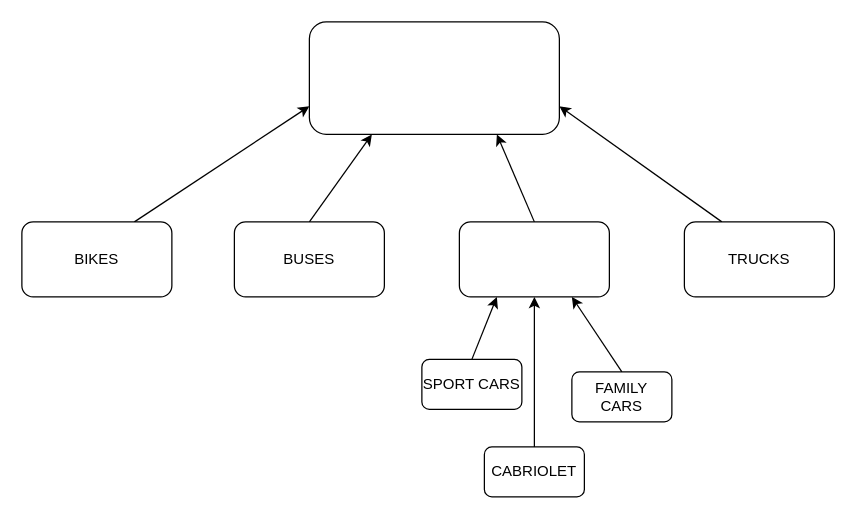
This 856x519 diagram has some shape labels left out. The box of each missing label's shape, as (x1, y1, x2, y2) in pixels:
CARS: (458, 221, 609, 297)
VEHICLES: (308, 21, 559, 134)
